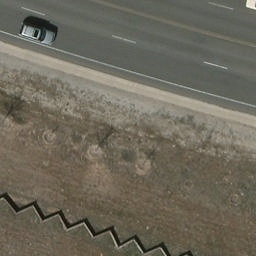car: (20, 24, 56, 46)
